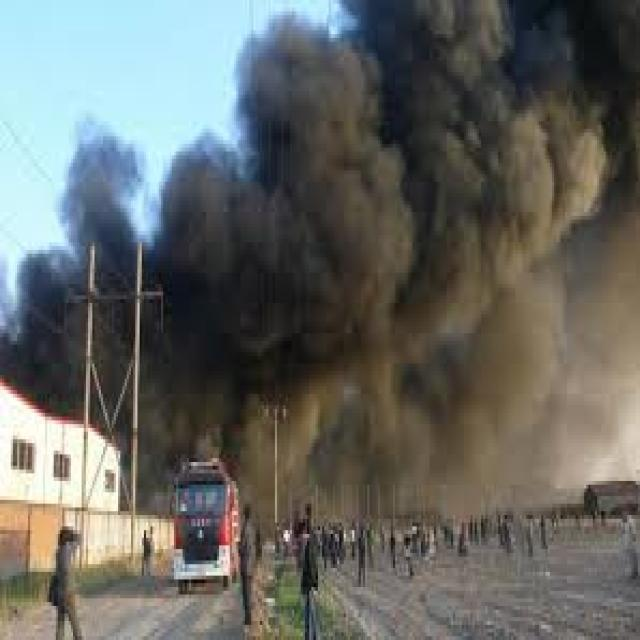Smoke: (28, 3, 627, 390)
